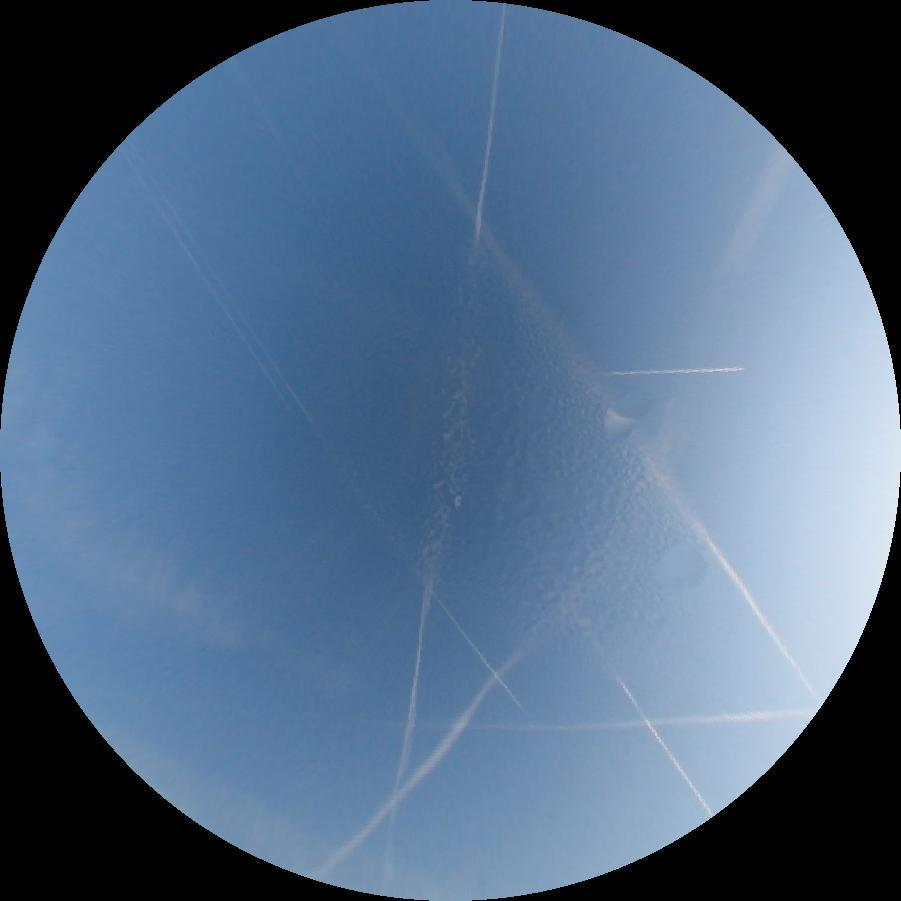contrail veryold: (317, 143, 850, 901), (407, 116, 831, 710), (381, 1, 522, 897), (366, 707, 820, 740), (616, 679, 714, 817)
contrail young: (120, 138, 523, 714), (118, 146, 294, 416), (608, 366, 747, 376)
